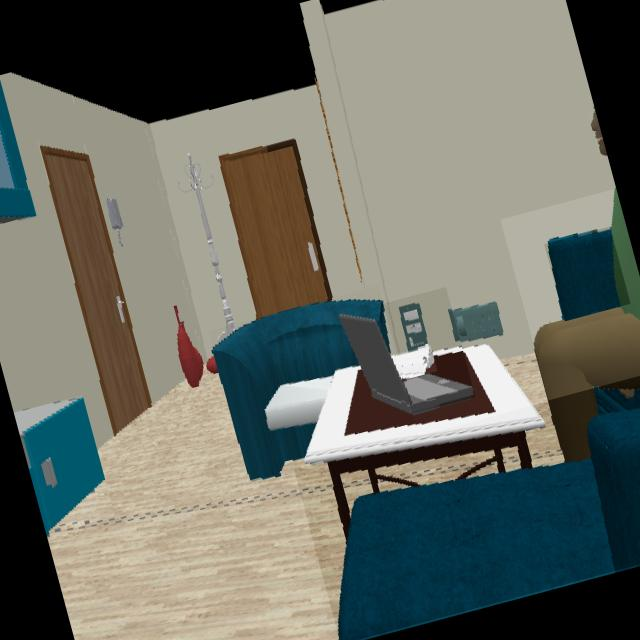book: (393, 346, 434, 379)
cabinet: (14, 399, 105, 532), (0, 84, 35, 222)
laptop: (339, 315, 474, 413)
person: (534, 189, 640, 460), (592, 113, 606, 154)
sofa: (339, 387, 640, 640), (213, 300, 389, 479), (550, 231, 619, 319)
table: (306, 345, 544, 536)
